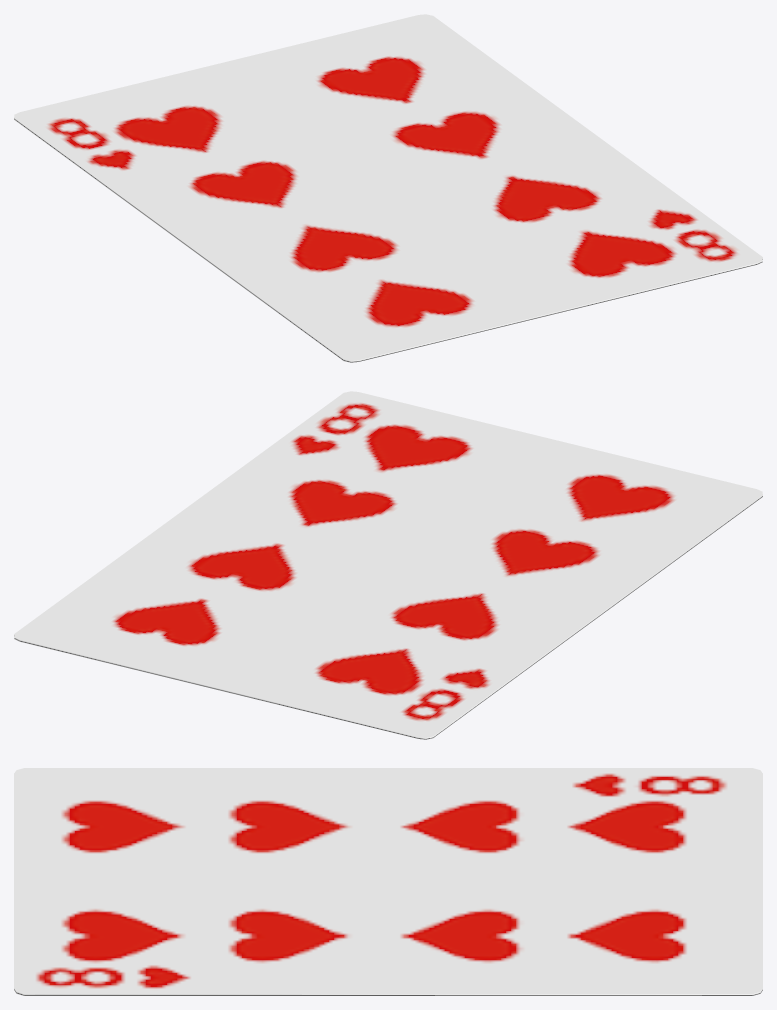
File: Heart_8.fbx
3 views of the same model, one above another, from view 1: azimuth 30°, elevation 25°; view 2: azimuth 150°, elevation 25°; view 3: azimuth 270°, elevation 25° (orthographic). The views are drawn at different scales.
Visible parts, largest first — view 1: Heart_8; view 2: Heart_8; view 3: Heart_8.
Part boxes in pixels (x1,y1,x2,y2): Heart_8: (14,14,762,362); Heart_8: (14,391,762,739); Heart_8: (14,768,762,995).
Size of the model in its own units: 6.35 by 0.0239 by 8.89.
